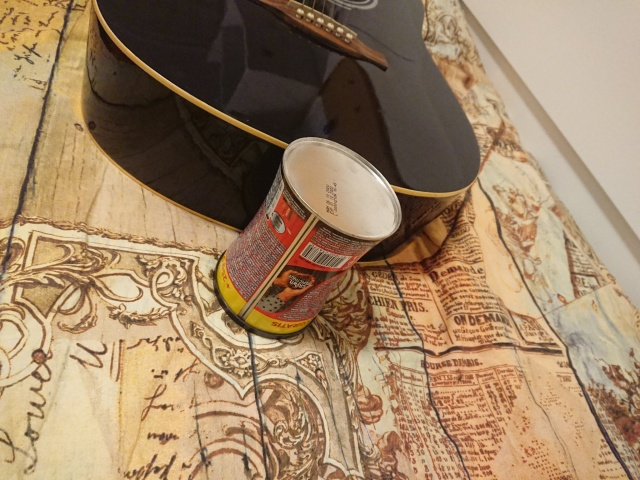Nescafe Classic 225g: (209, 134, 405, 342)
